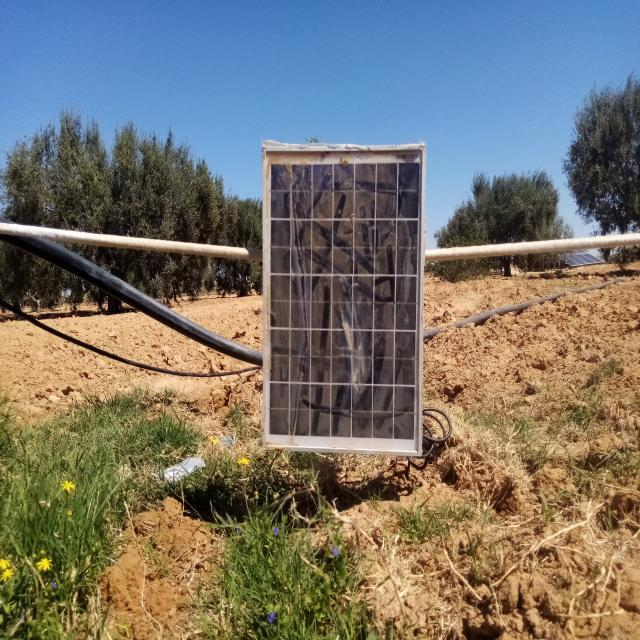faulty: (263, 147, 424, 454)
